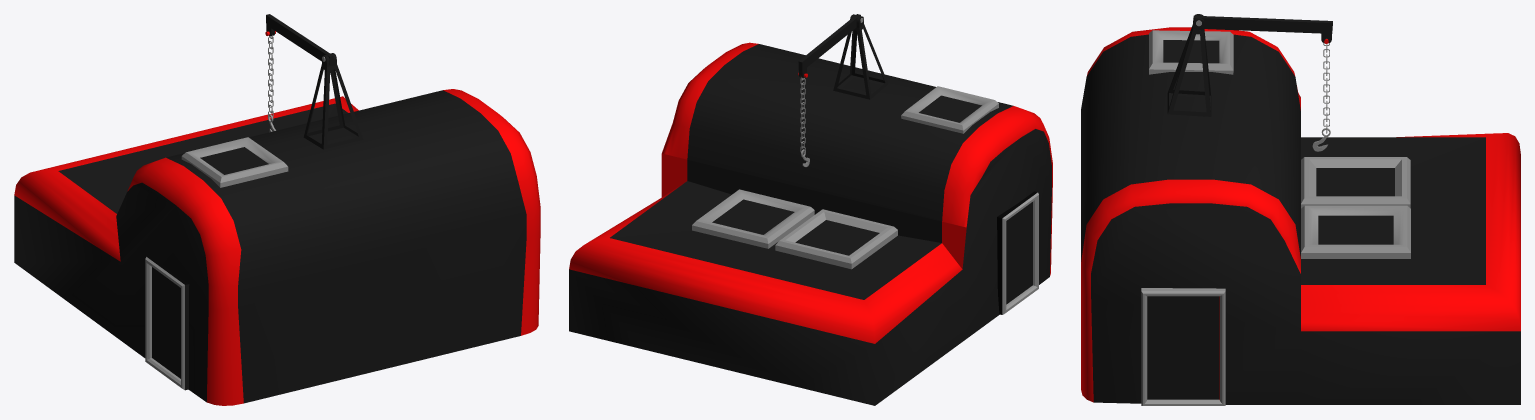
Rendered from Tech-Lab_Robot.FBX.
3 renders of one model, left to right at view 1: azimuth 30°, elevation 25°; view 2: azimuth 150°, elevation 25°; view 3: azimuth 270°, elevation 25°, orthographic. The views are drawn at different scales.
Parts seen in each view (by area): view 1: Plane001, Box009, Box010, Box001, Box005; view 2: Plane001, Box009, Box010, Box001, Box005, Cylinder003; view 3: Plane001, Box008, Box010, Box005, Box001, Cylinder003.
Boxes of the visible parts, box(x1,y1,x2,y2) form: Plane001: box(14, 89, 540, 405); Box009: box(145, 255, 189, 390); Box010: box(181, 137, 288, 187); Box001: box(303, 64, 363, 149); Box005: box(266, 14, 333, 66); Plane001: box(569, 42, 1052, 405); Box009: box(997, 191, 1038, 314); Box010: box(901, 86, 998, 133); Box001: box(833, 24, 888, 99); Box005: box(798, 14, 860, 70); Cylinder003: box(800, 77, 809, 166); Plane001: box(1081, 27, 1520, 404); Box008: box(1141, 288, 1225, 405); Box010: box(1149, 30, 1233, 74); Box005: box(1193, 15, 1332, 33); Box001: box(1167, 24, 1211, 116); Cylinder003: box(1312, 38, 1330, 151).
Bounding box in the file's own units: 174 × 133 × 177.
